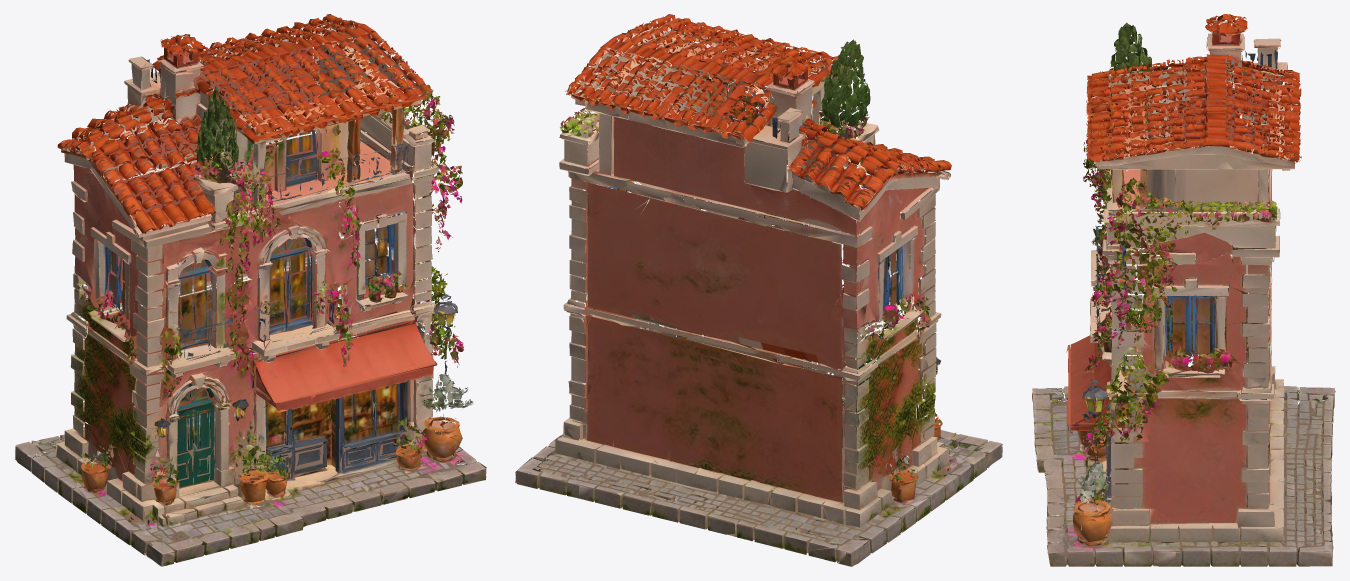
File: base_basic_pbr.glb
3 renders of one model, left to right at view 1: azimuth 30°, elevation 25°; view 2: azimuth 150°, elevation 25°; view 3: azimuth 270°, elevation 25°, orthographic. The views are drawn at different scales.
Visible parts, largest first — view 1: model; view 2: model; view 3: model.
Boxes of the visible parts, bbox=[...] form: model: bbox=[15, 14, 486, 566]; model: bbox=[515, 14, 1002, 566]; model: bbox=[1032, 14, 1335, 566].
Bounding box in the file's own units: 1.57 × 1.91 × 1.18.
1 material, 1 textured.
